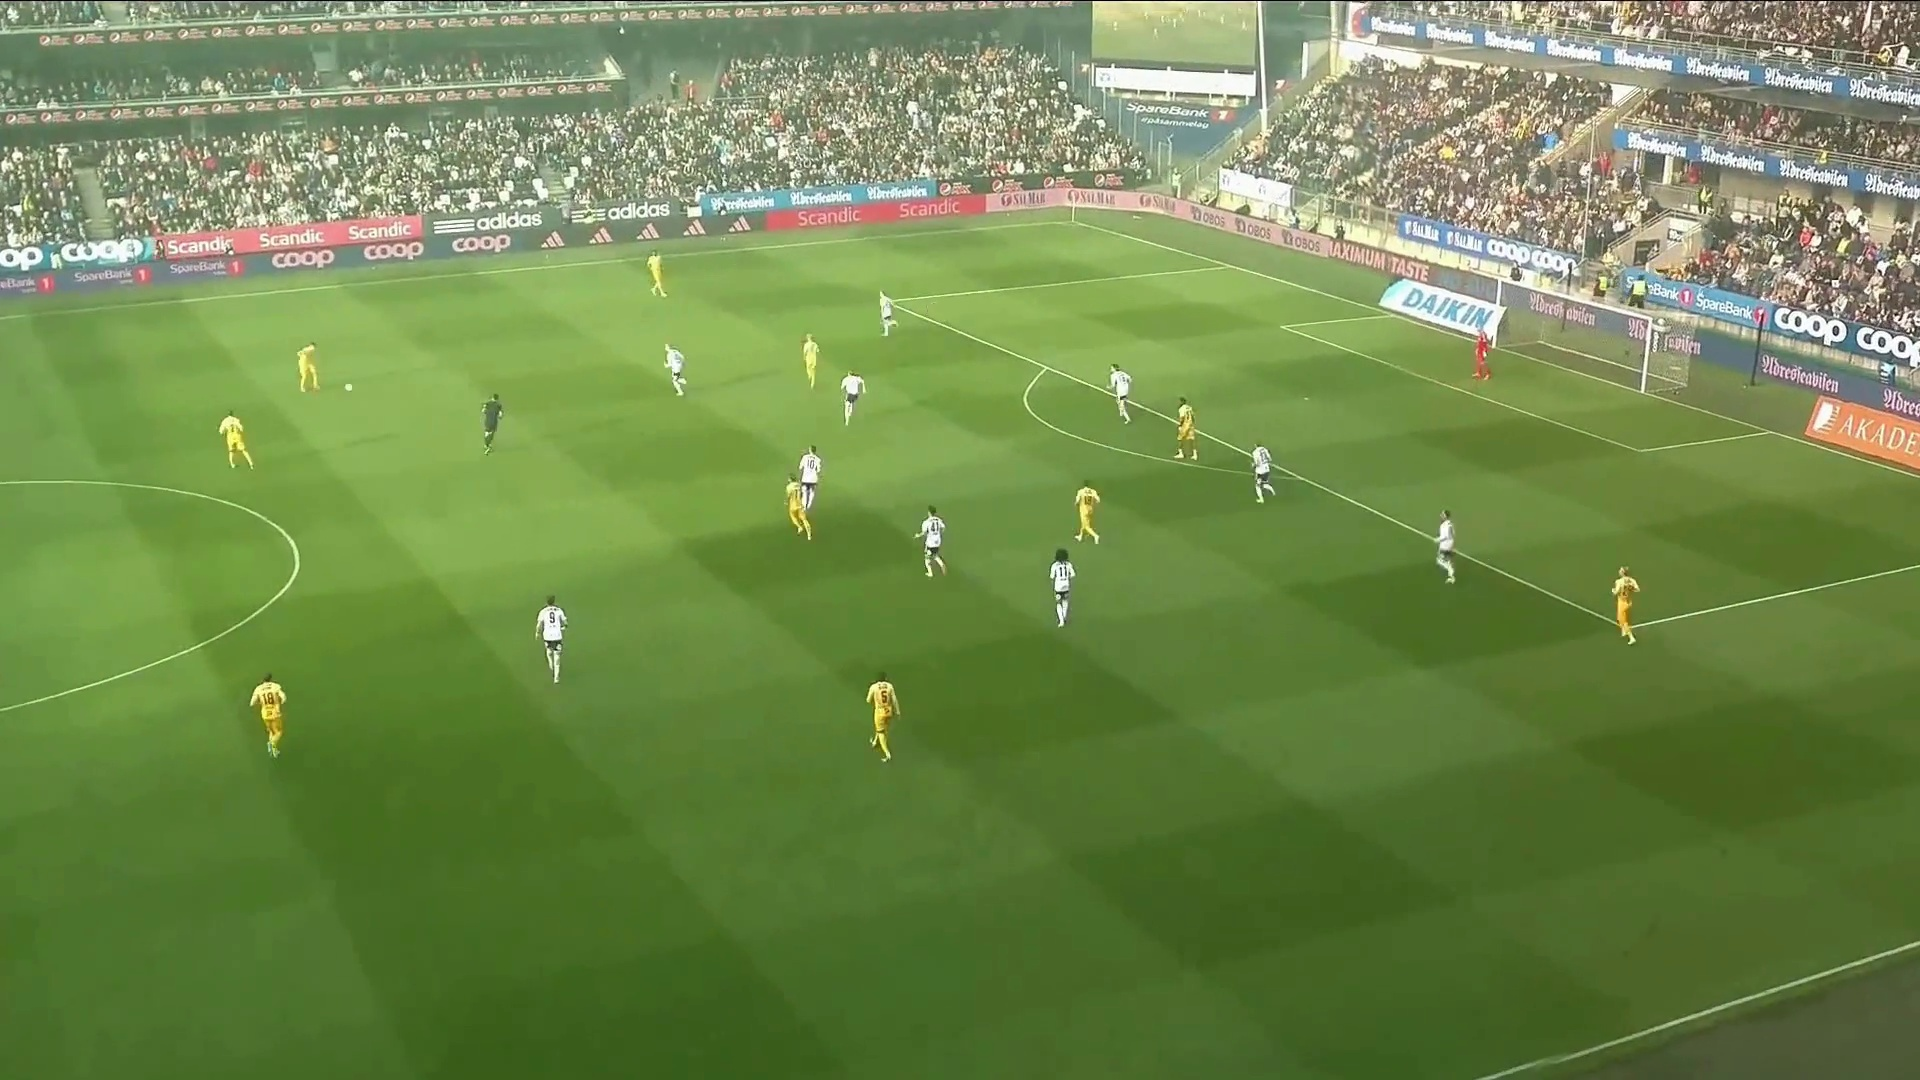ball: (343, 381, 354, 394)
player: (248, 671, 287, 759), (865, 670, 900, 763), (534, 594, 568, 684), (913, 505, 948, 578), (1611, 565, 1641, 645), (1049, 547, 1077, 628), (218, 409, 255, 470), (1073, 479, 1102, 544), (785, 473, 813, 540), (798, 444, 822, 512), (1251, 441, 1276, 504), (1436, 509, 1457, 584), (1108, 362, 1133, 424), (1175, 396, 1198, 461), (840, 369, 866, 426), (481, 392, 504, 455), (297, 341, 321, 393), (664, 342, 687, 396), (646, 249, 668, 298), (802, 333, 820, 390), (1472, 328, 1491, 380), (879, 289, 898, 336)
